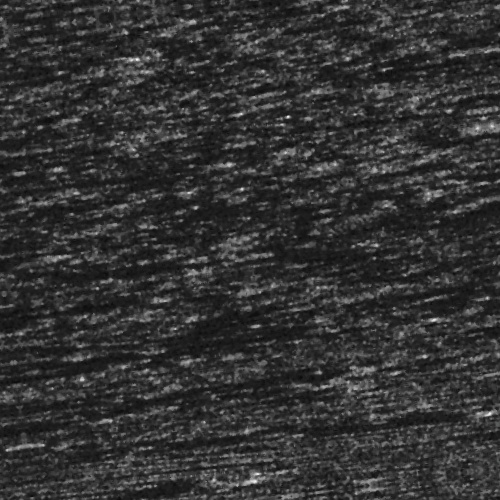object: (0, 222, 88, 231), (205, 154, 258, 163), (341, 14, 382, 21), (189, 8, 242, 13), (129, 39, 160, 42)
shadow: (10, 154, 231, 163), (208, 14, 361, 21), (0, 39, 144, 42), (136, 8, 215, 13), (0, 222, 42, 231)
